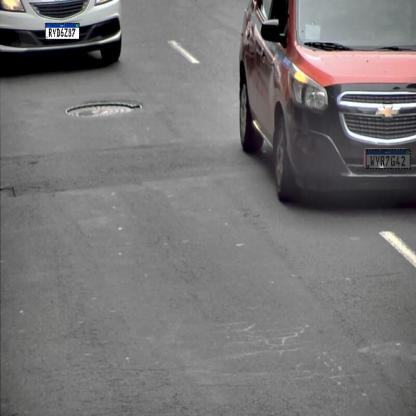PlacaM: (366, 149, 410, 169), (45, 23, 80, 39)
